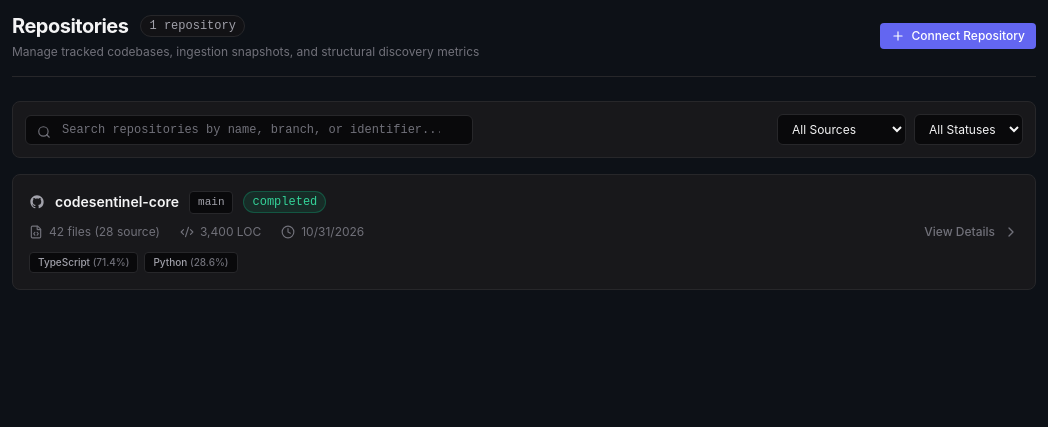
RepositoriesPage Component › filters repositories by source type
Expected: the text "codesentinel-core" is shown, [55, 192, 179, 212]
Select "Local Directory" in the 1st dropdown showing "All Sources" at (842, 130), box [777, 114, 906, 145]
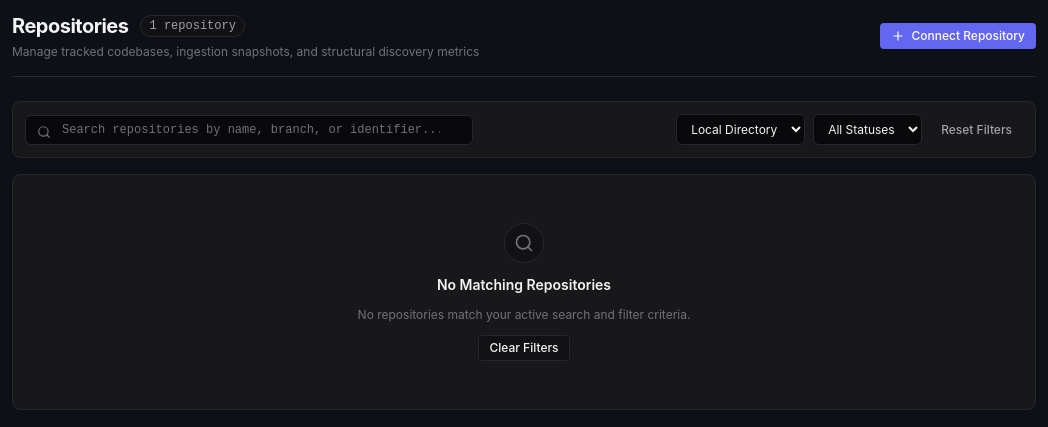
Expected: the heading "No Matching Repositories" is shown, [437, 276, 611, 293]
Select "GitHub" in the 1st dropdown showing "All Sources" at (741, 130), box [676, 114, 805, 145]
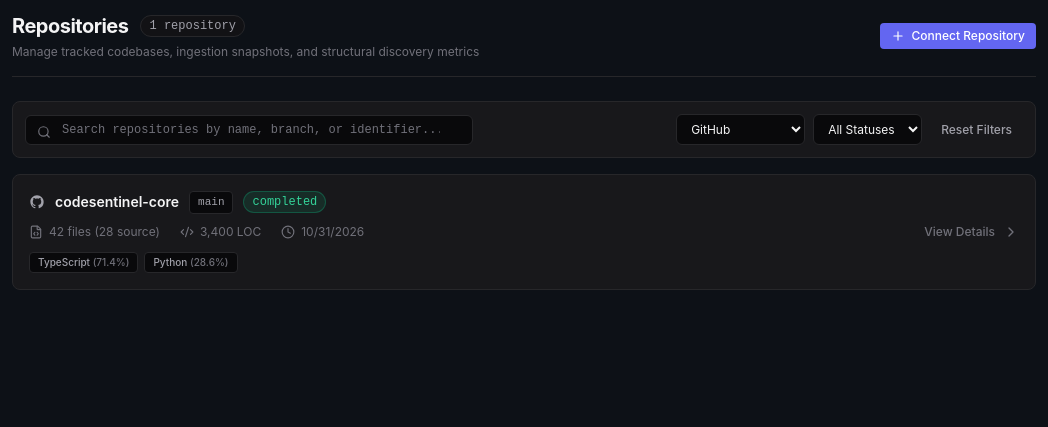
Expected: the text "codesentinel-core" is shown, [55, 192, 179, 212]
